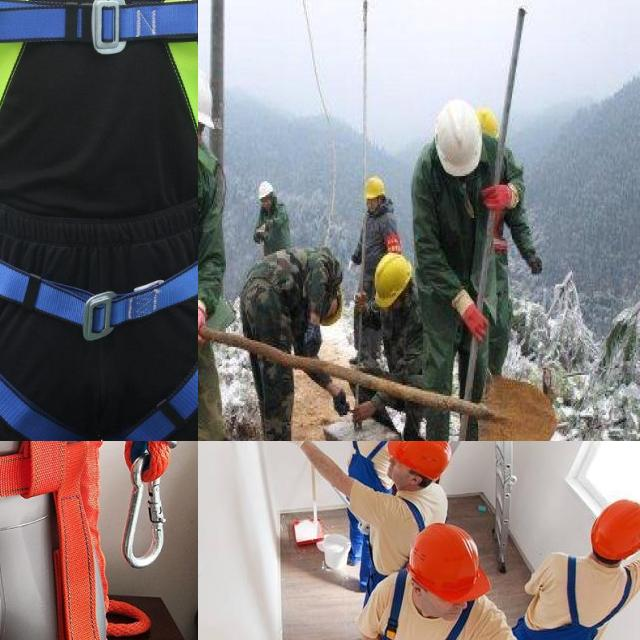Harness: (0, 0, 198, 441), (0, 441, 118, 640)
face_nomask: (198, 112, 209, 158)
hand_glove: (477, 178, 515, 212), (462, 301, 490, 343), (198, 302, 210, 348), (275, 441, 310, 453)
head_helmet: (403, 517, 493, 603), (430, 99, 485, 176), (585, 496, 640, 565), (369, 246, 415, 312), (386, 441, 453, 485), (198, 59, 220, 131), (361, 175, 388, 202), (255, 180, 278, 202)
person: (402, 96, 531, 441), (198, 61, 284, 441), (233, 240, 354, 441), (508, 493, 640, 640), (345, 523, 501, 640), (349, 441, 462, 602), (371, 252, 435, 441), (352, 173, 406, 385), (343, 441, 404, 590), (248, 171, 291, 267)
